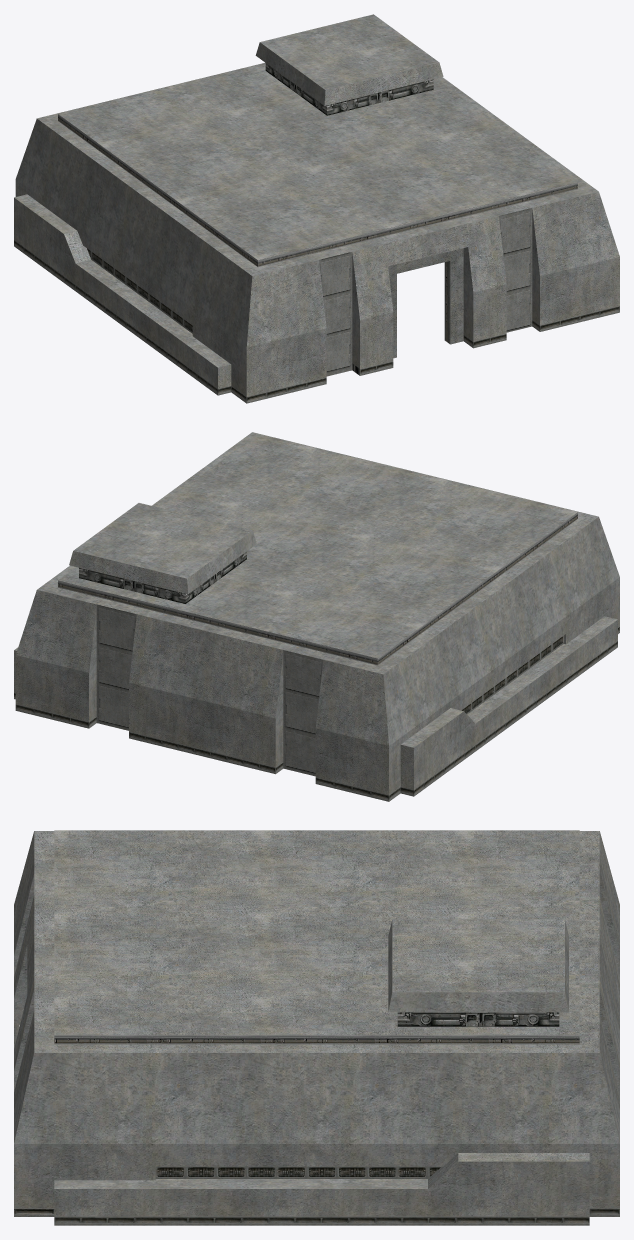
Rendered from mun_all_military_storage_shed_impl_s01_r0_exterior_mesh_exterior_l0.fbx.
The picture shows the model from 3 angles, top to bottom: view 1: azimuth 30°, elevation 25°; view 2: azimuth 150°, elevation 25°; view 3: azimuth 270°, elevation 25°; orthographic projection. The views are drawn at different scales.
Parts seen in each view (by area): view 1: mesh_node; view 2: mesh_node; view 3: mesh_node.
Boxes of the visible parts, x1=… form: mesh_node: x1=14, y1=14, x2=619, y2=403; mesh_node: x1=14, y1=432, x2=619, y2=801; mesh_node: x1=14, y1=830, x2=619, y2=1225.
Bounding box in the file's own units: 15 × 5.5 × 15.
